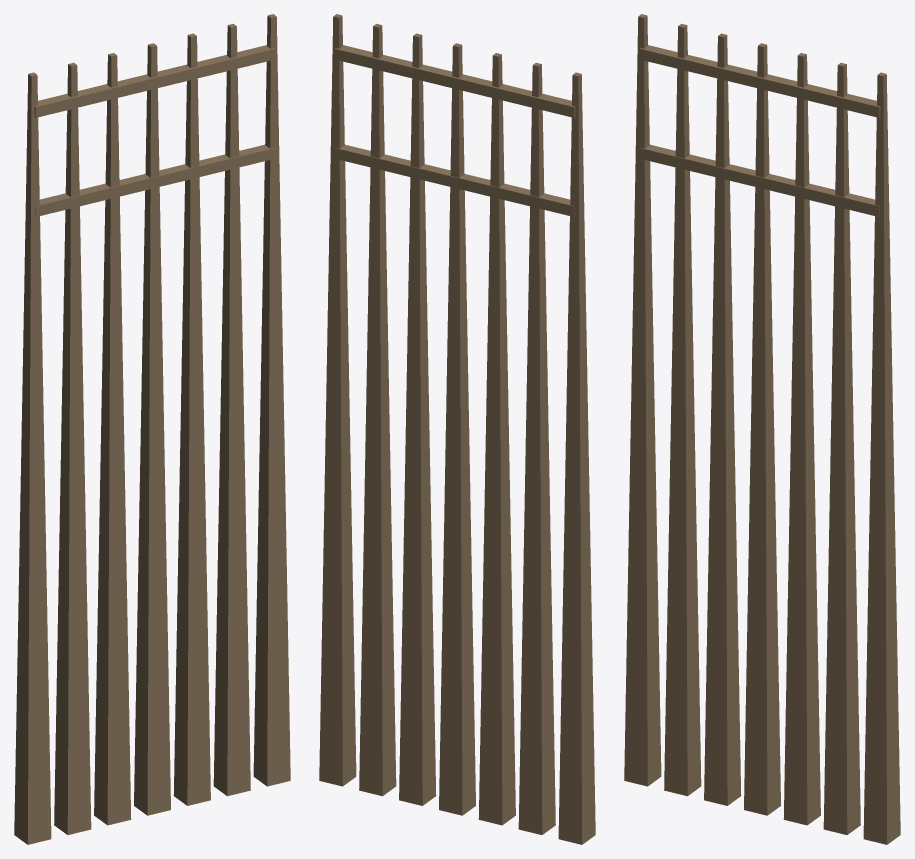
Rendered from wall.glb.
The picture shows the model from 3 angles, left to right: view 1: azimuth 30°, elevation 25°; view 2: azimuth 150°, elevation 25°; view 3: azimuth 330°, elevation 25°; orthographic projection.
Parts seen in each view (by area): view 1: wall; view 2: wall; view 3: wall.
Boxes of the visible parts, <box> form: wall: <box>14,14,290,844</box>; wall: <box>319,14,595,844</box>; wall: <box>624,14,900,844</box>.
Size of the model in its own units: 1.79 by 4.95 by 0.16.
